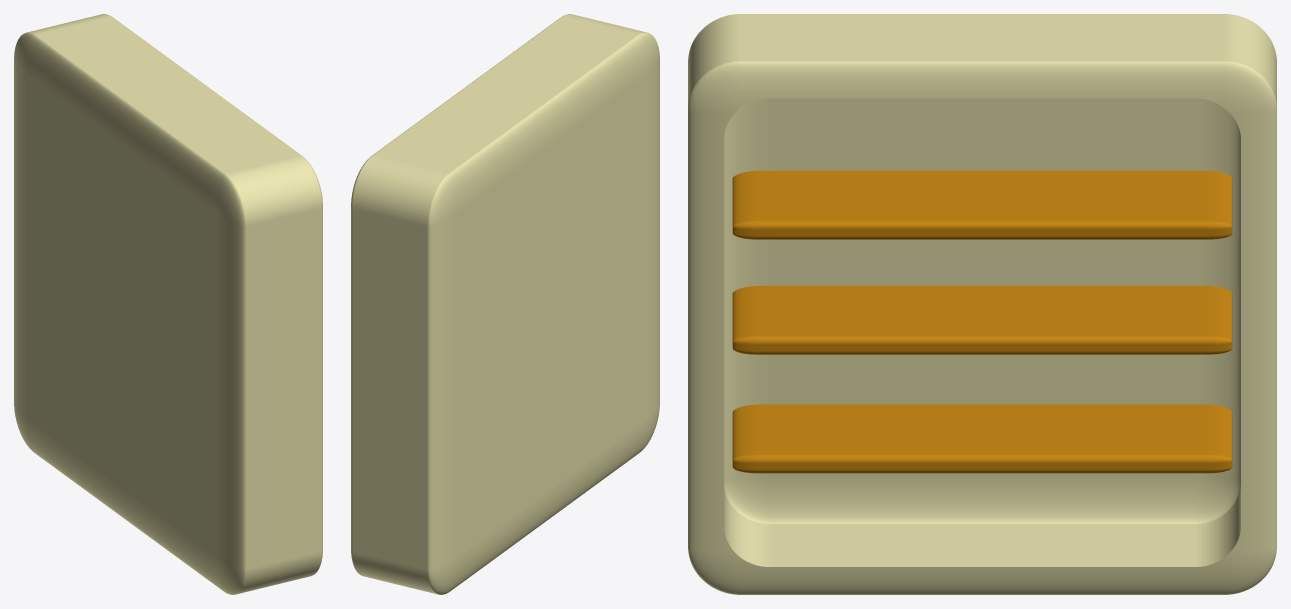
The model's file is cute_small_yellow.fbx.
3 views of the same model, side by side, from view 1: azimuth 30°, elevation 25°; view 2: azimuth 150°, elevation 25°; view 3: azimuth 270°, elevation 25° (orthographic). The views are drawn at different scales.
Parts seen in each view (by area): view 1: Cube.003; view 2: Cube.003; view 3: Cube.003, Plane.004, Plane.005, Plane.003.
Boxes of the visible parts, x1,y1,x2,y2 form: Cube.003: [14, 14, 322, 594]; Cube.003: [351, 14, 659, 594]; Cube.003: [688, 14, 1276, 594]; Plane.004: [732, 404, 1232, 473]; Plane.005: [732, 285, 1232, 354]; Plane.003: [732, 170, 1232, 239].
Size of the model in its own units: 37.94 by 153 by 153.
